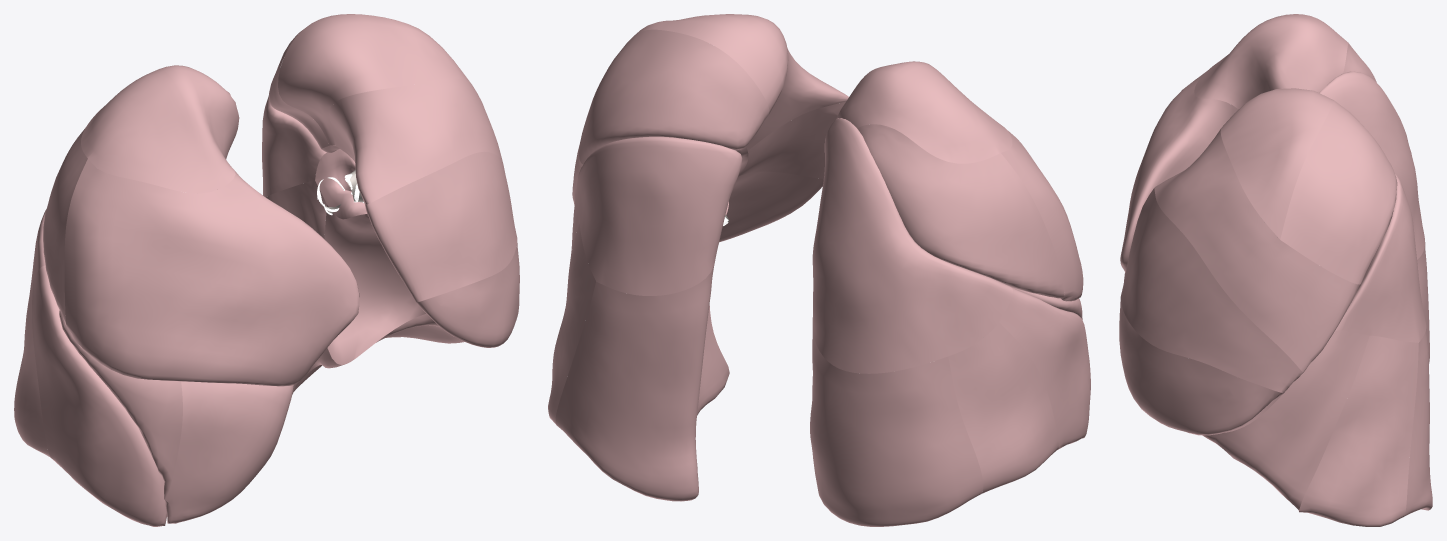
Rendered from lung-female.glb.
3 views of the same model, side by side, from view 1: azimuth 30°, elevation 25°; view 2: azimuth 150°, elevation 25°; view 3: azimuth 270°, elevation 25° (orthographic). The views are drawn at different scales.
Parts seen in each view (by area): view 1: VH_F_right_anterior_bronchopulmonary_segm, VH_F_right_anterior_basal_bronchopulmonary_segment, VH_F_lingula_superior_bronchopulmonary_segment, VH_F_right_apical_bronchopulmonary_segment, VH_F_left_anterior_bronchopulmonary_segment, VH_F_left_apical_bronchopulmonary_segment, VH_F_right_medial_bronchopulmonary_segment, VH_F_left_medial_basal_bronchopulmonary_segment, VH_F_lingula_inferior_bronchopulmonary_segment, VH_F_right_lateral_bronchopulmonary_segmennt, VH_F_left_superior_bronchopulmonary_segment, VH_F_right_posterior_bronchopulmonary_segment (+6 smaller); view 2: VH_F_right_superior_bronchopulmonary_segment, VH_F_left_posterior_basal_bronchopulmonary_segment, VH_F_right_posterior_basal_bronchopulmonary_segment, VH_F_left_superior_bronchopulmonary_segment, VH_F_right_posterior_bronchopulmonary_segment, VH_F_left_posterior_bronchopulmonary_segment, VH_F_right_lateral_basal_bronchopulmonary_segment, VH_F_right_apical_bronchopulmonary_segment, VH_F_right_anterior_basal_bronchopulmonary_segment, VH_F_left_apical_bronchopulmonary_segment, VH_F_lingula_inferior_bronchopulmonary_segment, VH_F_lingula_superior_bronchopulmonary_segment (+3 smaller); view 3: VH_F_left_anterior_bronchopulmonary_segment, VH_F_lingula_superior_bronchopulmonary_segment, VH_F_left_lateral_basal_bronchopulmonary_segment, VH_F_left_posterior_bronchopulmonary_segment, VH_F_left_anterior_basal_bronchopulmonary_segment, VH_F_lingula_inferior_bronchopulmonary_segment, VH_F_left_apical_bronchopulmonary_segment, VH_F_right_apical_bronchopulmonary_segment, VH_F_left_superior_bronchopulmonary_segment, VH_F_right_anterior_bronchopulmonary_segm, VH_F_right_superior_bronchopulmonary_segment, VH_F_left_posterior_basal_bronchopulmonary_segment (+2 smaller).
Part boxes in pixels (x1,y1,x2,y2): VH_F_right_anterior_bronchopulmonary_segm: (64, 159, 359, 386); VH_F_right_anterior_basal_bronchopulmonary_segment: (32, 265, 166, 526); VH_F_lingula_superior_bronchopulmonary_segment: (365, 151, 517, 302); VH_F_right_apical_bronchopulmonary_segment: (81, 65, 239, 193); VH_F_left_anterior_bronchopulmonary_segment: (329, 78, 502, 204); VH_F_left_apical_bronchopulmonary_segment: (278, 14, 470, 145); VH_F_right_medial_bronchopulmonary_segment: (165, 381, 293, 523); VH_F_left_medial_basal_bronchopulmonary_segment: (324, 205, 425, 364); VH_F_lingula_inferior_bronchopulmonary_segment: (416, 242, 519, 347); VH_F_right_lateral_bronchopulmonary_segmennt: (59, 310, 182, 499); VH_F_left_superior_bronchopulmonary_segment: (262, 95, 326, 197); VH_F_right_posterior_bronchopulmonary_segment: (43, 129, 87, 325); VH_F_right_superior_bronchopulmonary_segment: (812, 118, 1012, 373); VH_F_left_posterior_basal_bronchopulmonary_segment: (555, 265, 729, 501); VH_F_right_posterior_basal_bronchopulmonary_segment: (810, 325, 983, 526); VH_F_left_superior_bronchopulmonary_segment: (576, 136, 742, 295); VH_F_right_posterior_bronchopulmonary_segment: (857, 124, 1064, 298); VH_F_left_posterior_bronchopulmonary_segment: (579, 29, 769, 164); VH_F_right_lateral_basal_bronchopulmonary_segment: (948, 322, 1058, 493); VH_F_right_apical_bronchopulmonary_segment: (836, 61, 1012, 163); VH_F_right_anterior_basal_bronchopulmonary_segment: (999, 287, 1090, 449); VH_F_left_apical_bronchopulmonary_segment: (634, 14, 788, 113); VH_F_lingula_inferior_bronchopulmonary_segment: (719, 171, 823, 242); VH_F_lingula_superior_bronchopulmonary_segment: (739, 101, 845, 178); VH_F_left_anterior_bronchopulmonary_segment: (1154, 129, 1360, 372); VH_F_lingula_superior_bronchopulmonary_segment: (1120, 188, 1303, 393); VH_F_left_lateral_basal_bronchopulmonary_segment: (1299, 335, 1418, 526); VH_F_left_posterior_bronchopulmonary_segment: (1280, 100, 1397, 284); VH_F_left_anterior_basal_bronchopulmonary_segment: (1202, 330, 1369, 510); VH_F_lingula_inferior_bronchopulmonary_segment: (1119, 300, 1283, 435); VH_F_left_apical_bronchopulmonary_segment: (1220, 88, 1333, 239); VH_F_right_apical_bronchopulmonary_segment: (1194, 14, 1348, 109); VH_F_left_superior_bronchopulmonary_segment: (1335, 173, 1426, 342); VH_F_right_anterior_bronchopulmonary_segm: (1120, 71, 1238, 272); VH_F_right_superior_bronchopulmonary_segment: (1319, 71, 1424, 259); VH_F_left_posterior_basal_bronchopulmonary_segment: (1404, 329, 1432, 516).
Size of the model in its own units: 0.2511 by 0.223 by 0.1526.
